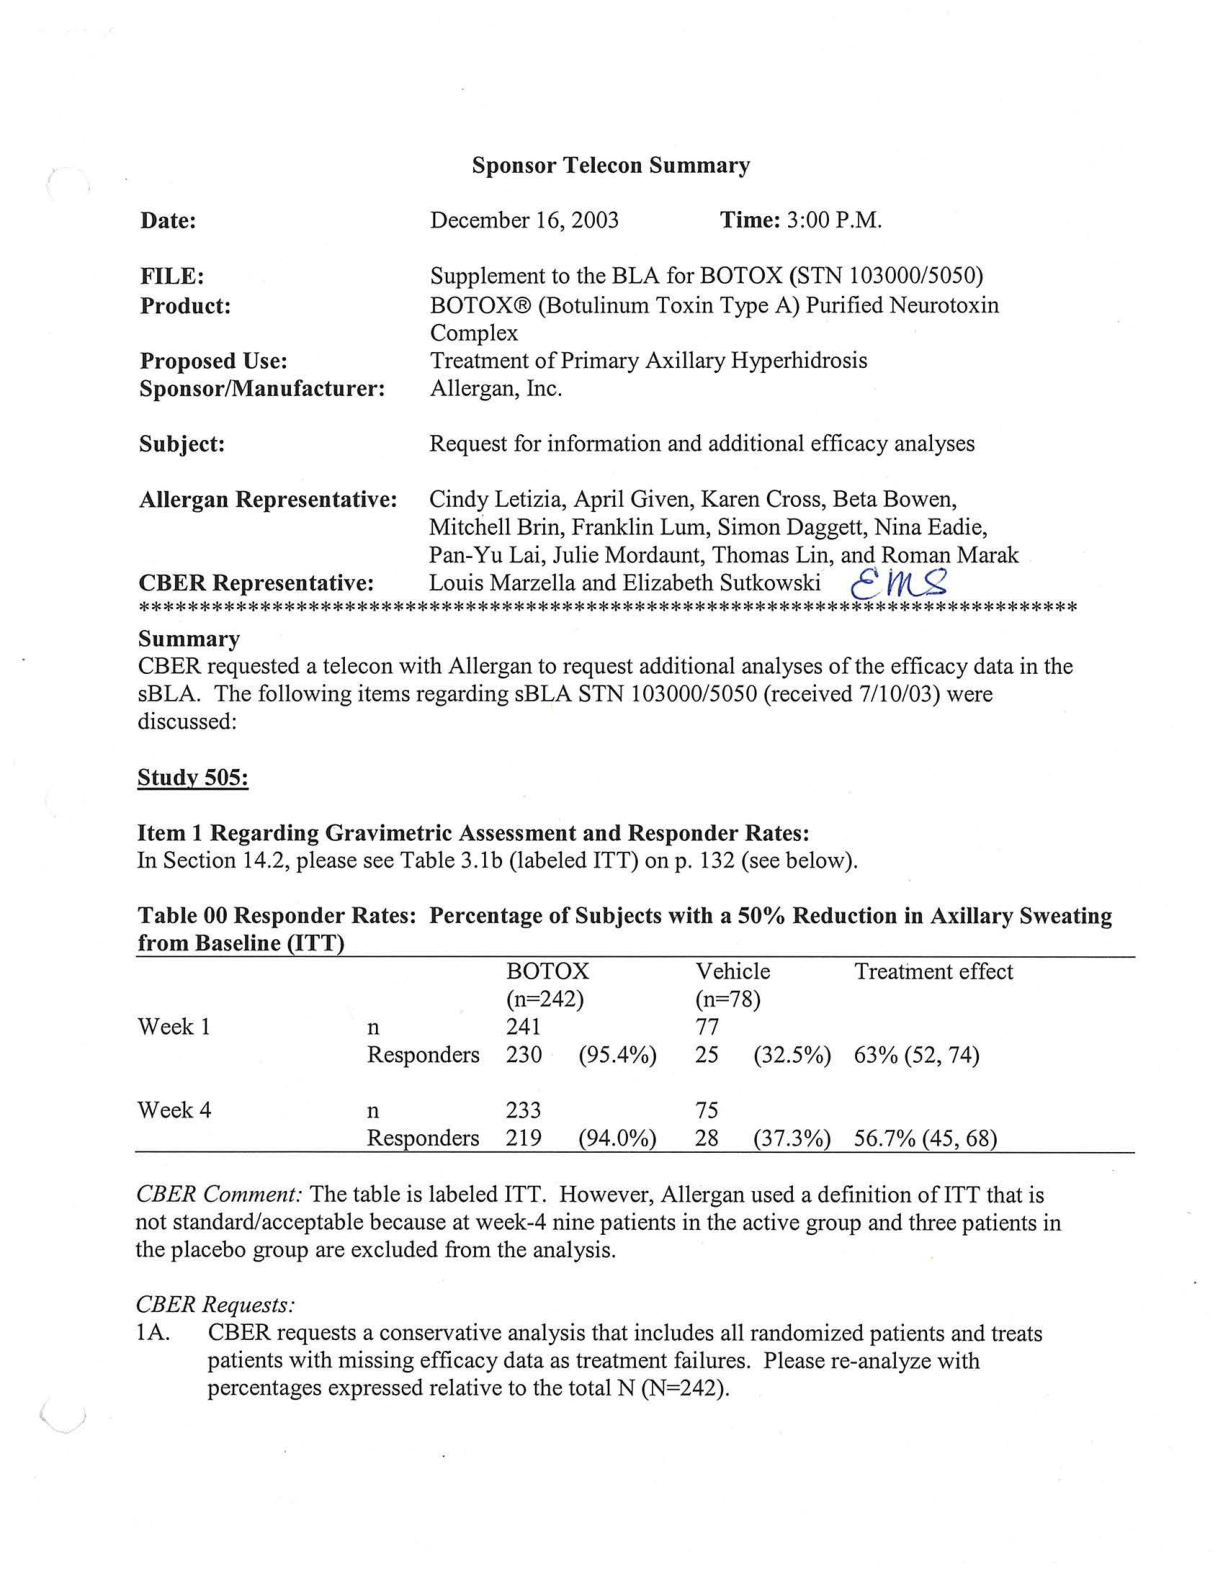nolines: (134, 205, 1020, 604)
partial_lined: (134, 955, 1134, 1154)
